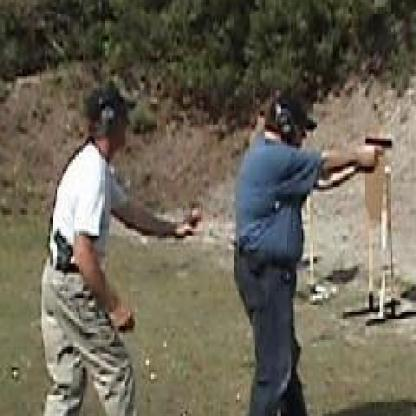gun: (47, 217, 81, 282), (357, 127, 397, 167)
